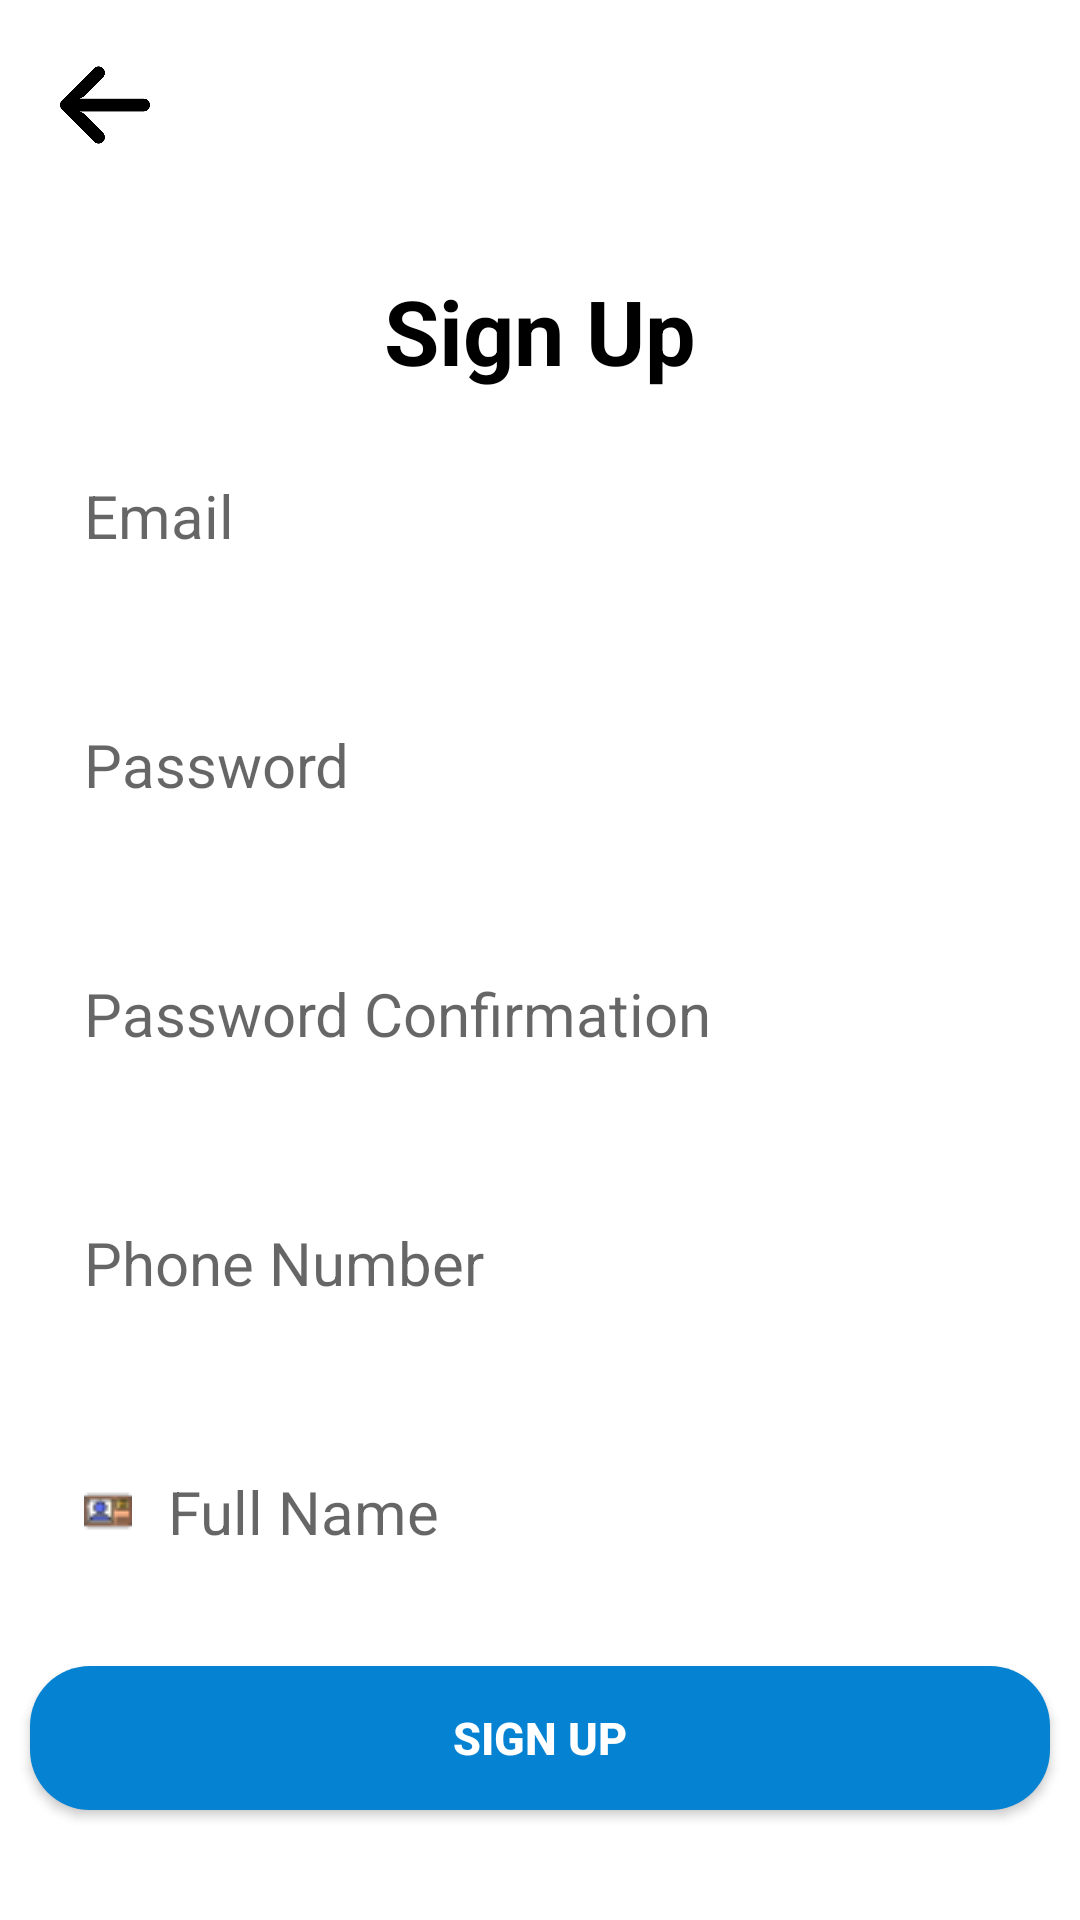

Named icons in this screenshot (1080x1920) and their centers, point (x, y):
arrow: point (105, 105)
